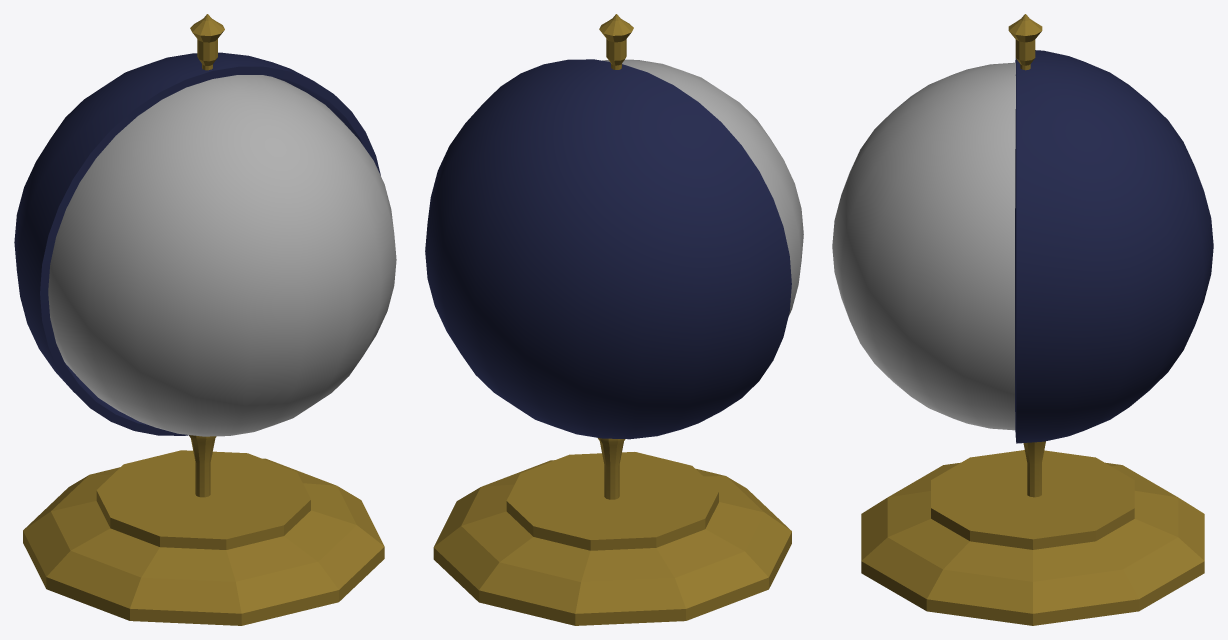
The model's file is MoonGlobe.fbx.
3 views of the same model, side by side, from view 1: azimuth 30°, elevation 25°; view 2: azimuth 150°, elevation 25°; view 3: azimuth 270°, elevation 25° (orthographic).
Visible parts, largest first — view 1: Globe_Moon, Globe_Base, Globe_Shell, Globe_Top, Globe_Leg; view 2: Globe_Shell, Globe_Base, Globe_Moon, Globe_Top, Globe_Leg; view 3: Globe_Shell, Globe_Moon, Globe_Base, Globe_Top, Globe_Leg.
Part boxes in pixels (x1,y1,x2,y2): Globe_Moon: [48, 75, 396, 436]; Globe_Base: [23, 450, 384, 625]; Globe_Shell: [14, 52, 380, 435]; Globe_Top: [190, 14, 224, 70]; Globe_Leg: [189, 435, 216, 497]; Globe_Shell: [425, 59, 791, 439]; Globe_Base: [433, 452, 791, 625]; Globe_Moon: [602, 59, 803, 315]; Globe_Top: [599, 14, 633, 69]; Globe_Leg: [598, 438, 625, 499]; Globe_Shell: [1015, 50, 1213, 443]; Globe_Moon: [832, 62, 1015, 430]; Globe_Base: [861, 450, 1204, 625]; Globe_Top: [1008, 14, 1042, 70]; Globe_Leg: [1023, 441, 1045, 497].
Size of the model in its own units: 4.55 by 6.8 by 4.39.
